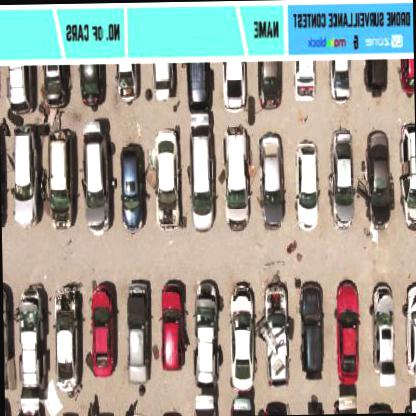car: (188, 274, 222, 386), (158, 278, 188, 370), (221, 132, 249, 226), (326, 132, 354, 224), (360, 135, 388, 224), (121, 283, 149, 372), (80, 138, 107, 230), (186, 136, 212, 230), (117, 148, 145, 233), (7, 136, 34, 224), (48, 140, 75, 228), (295, 284, 322, 372), (228, 298, 255, 386), (256, 136, 282, 227), (86, 288, 114, 372), (156, 140, 182, 228), (332, 292, 359, 376), (293, 142, 318, 224), (396, 128, 414, 220), (42, 63, 70, 107), (184, 62, 208, 112), (76, 63, 104, 105), (257, 60, 280, 108), (220, 60, 242, 110), (403, 289, 415, 375), (292, 58, 314, 98), (115, 64, 137, 104), (328, 58, 348, 102), (365, 57, 386, 93), (152, 62, 172, 99), (397, 56, 412, 94), (262, 402, 288, 414)
